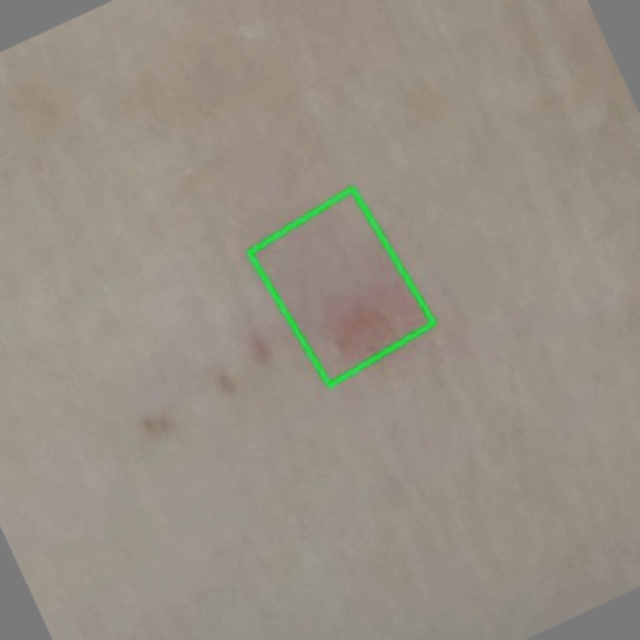Tinea Corporis: (248, 190, 432, 385)
